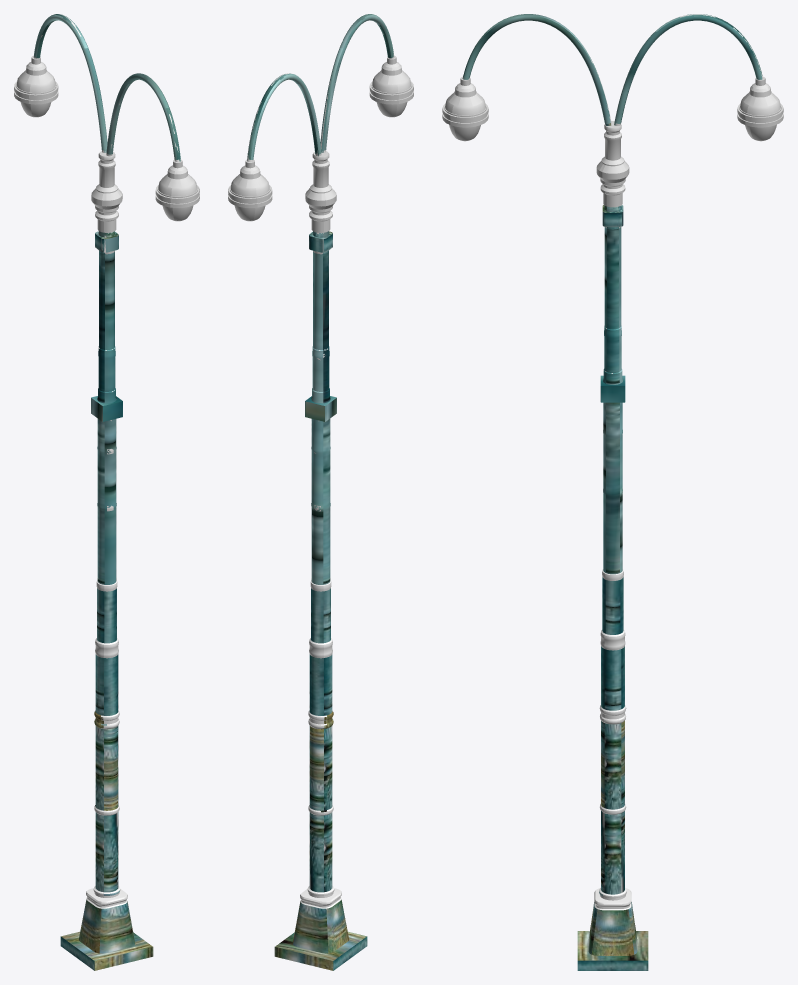
The model's file is lampara.fbx.
3 renders of one model, left to right at view 1: azimuth 30°, elevation 25°; view 2: azimuth 150°, elevation 25°; view 3: azimuth 270°, elevation 25°, orthographic. The views are drawn at different scales.
Parts seen in each view (by area): view 1: Cube, Cylinder.003, Cylinder.017, Cylinder, Cylinder.010; view 2: Cube, Cylinder.003, Cylinder.017, Cylinder, Cylinder.010; view 3: Cube, Cylinder.017, Cylinder.003, Cylinder, Cylinder.010.
Boxes of the visible parts, <box> form: Cube: <box>60,231,153,970</box>; Cylinder.003: <box>14,56,199,207</box>; Cylinder.017: <box>33,14,180,161</box>; Cylinder: <box>91,151,122,232</box>; Cylinder.010: <box>20,102,193,221</box>; Cube: <box>274,231,367,970</box>; Cylinder.003: <box>228,56,413,207</box>; Cylinder.017: <box>247,14,394,161</box>; Cylinder: <box>305,151,336,232</box>; Cylinder.010: <box>234,102,407,221</box>; Cube: <box>577,205,648,970</box>; Cylinder.017: <box>462,14,763,125</box>; Cylinder.003: <box>442,76,783,127</box>; Cylinder: <box>596,121,629,207</box>; Cylinder.010: <box>449,124,776,141</box>.
Size of the model in its own units: 85.57 by 1262 by 415.
